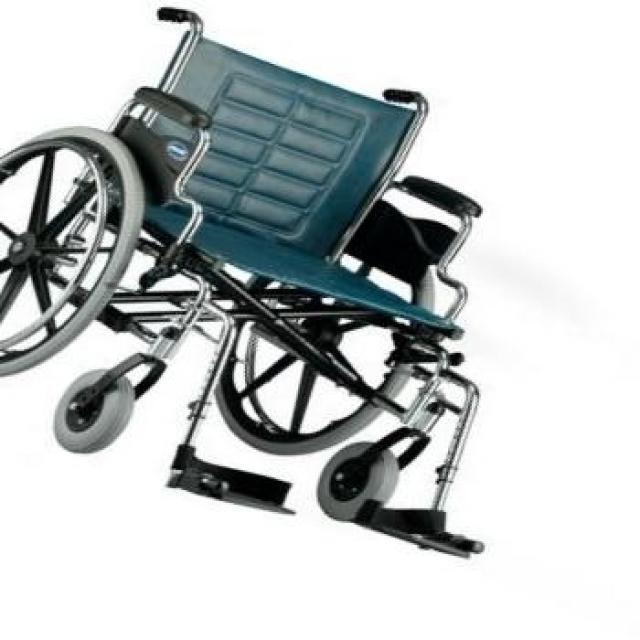wheelchair: (1, 2, 518, 585)
